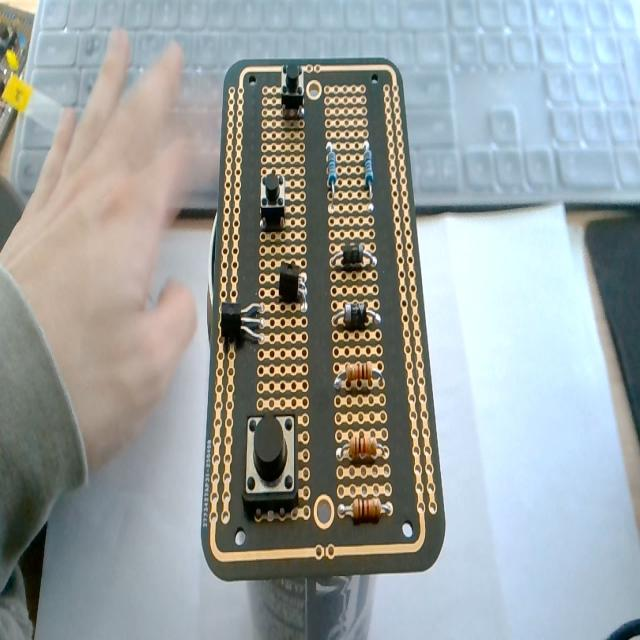diode: (331, 240, 377, 270), (332, 302, 380, 329)
resistor: (336, 423, 384, 461), (340, 492, 394, 524), (335, 366, 383, 392), (326, 141, 338, 213), (362, 142, 373, 190)
switch: (243, 411, 299, 513), (260, 172, 286, 229), (280, 63, 305, 117)
transistor: (218, 292, 274, 354), (276, 254, 310, 316)
